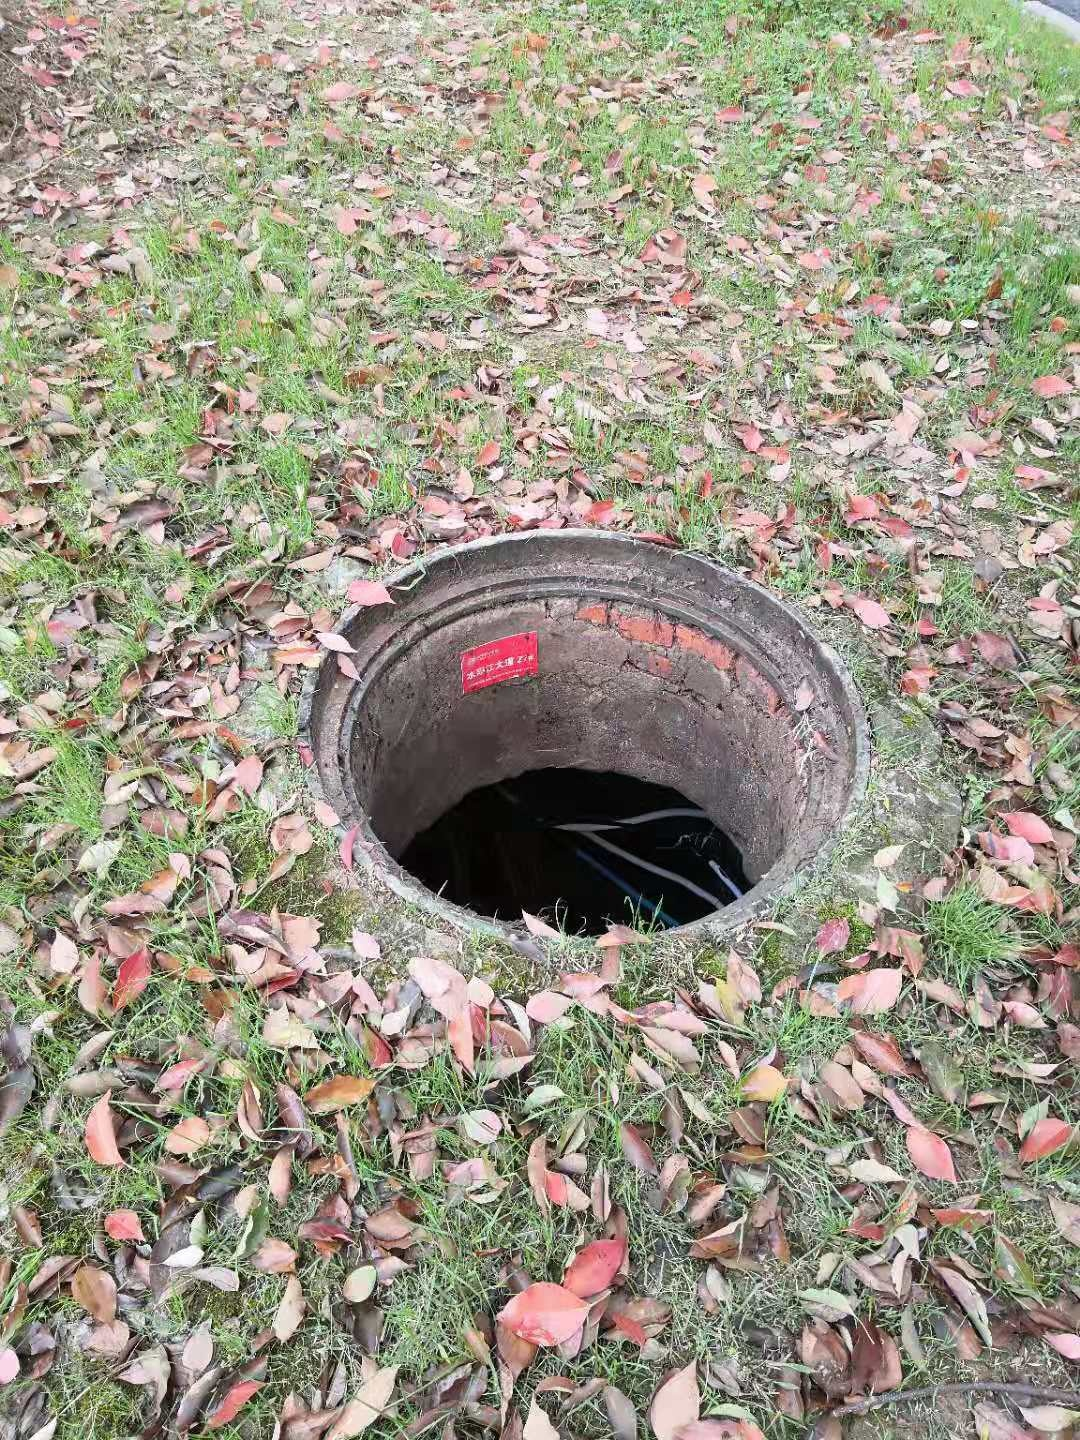lose: (293, 527, 870, 952)
